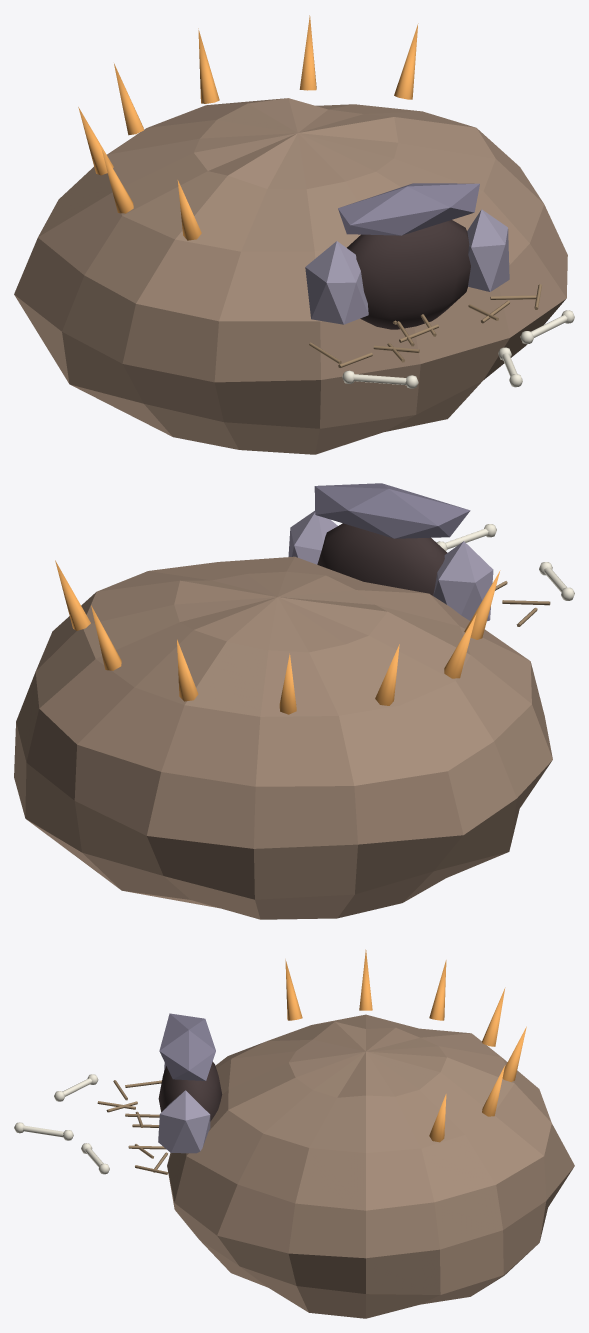
The model's file is den.glb.
3 views of the same model, one above another, from view 1: azimuth 30°, elevation 25°; view 2: azimuth 150°, elevation 25°; view 3: azimuth 270°, elevation 25° (orthographic). The views are drawn at different scales.
Visible parts, largest first — view 1: den_tc; view 2: den_tc; view 3: den_tc.
Part boxes in pixels (x1,y1,x2,y2): den_tc: (14,15,574,454); den_tc: (14,483,574,919); den_tc: (14,949,574,1318).
Size of the model in its own units: 6.82 by 4.34 by 8.71.
